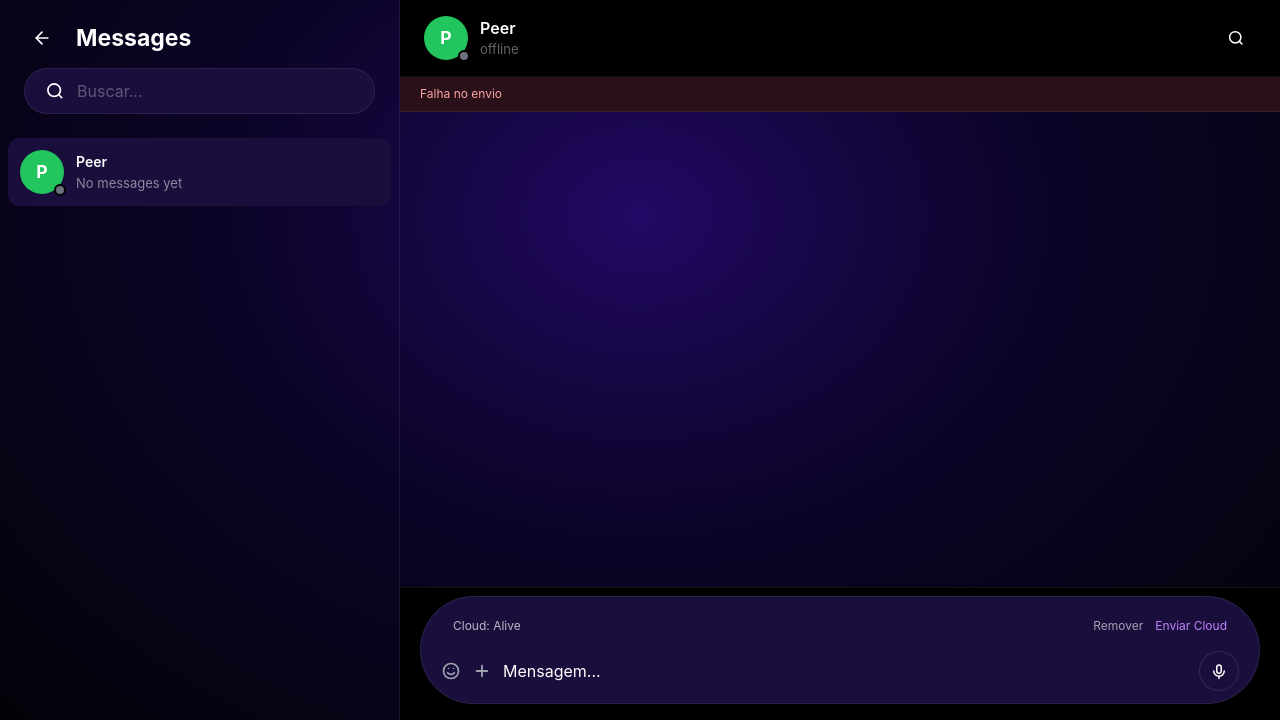
Test: direct message pins › envia a Cloud automaticamente sem mostrar o card azul e permite tentar novamente em caso de falha
Click the button "Enviar Cloud".
click(1191, 626)  # box [1155, 617, 1227, 635]
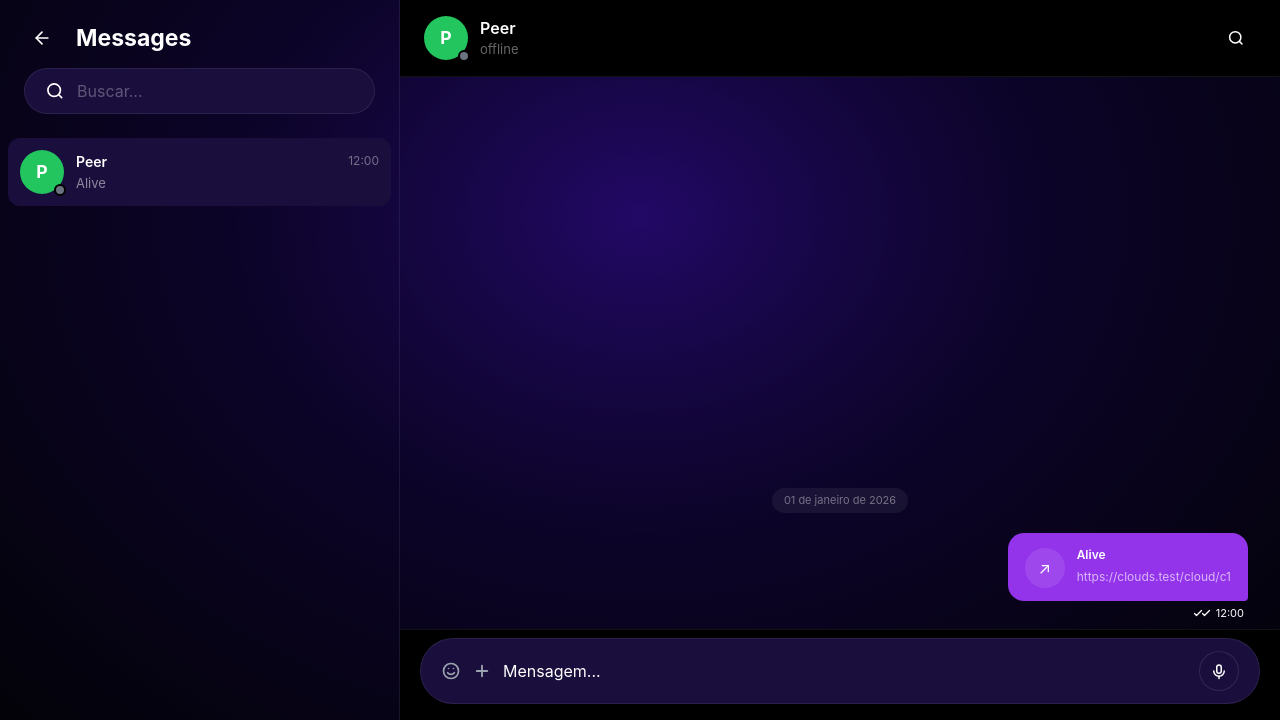
Expected: the button "Enviar Cloud" is gone
